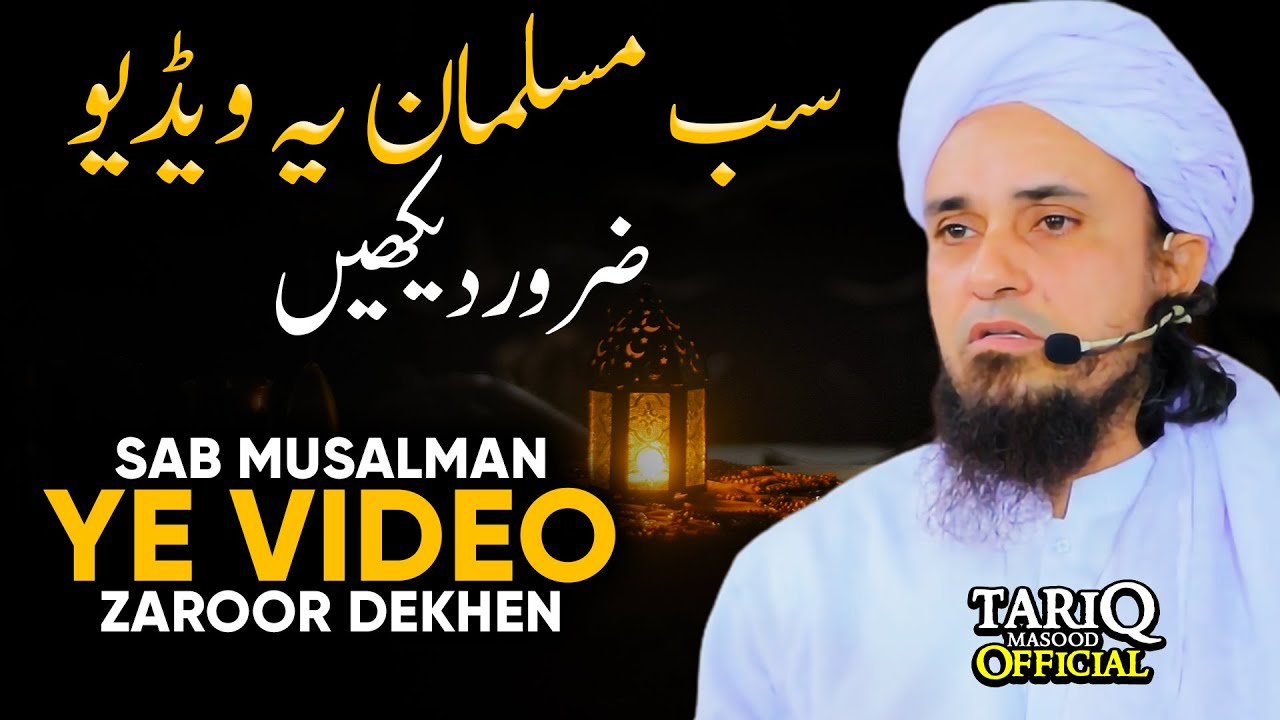NoMask: (933, 178, 1116, 434)
